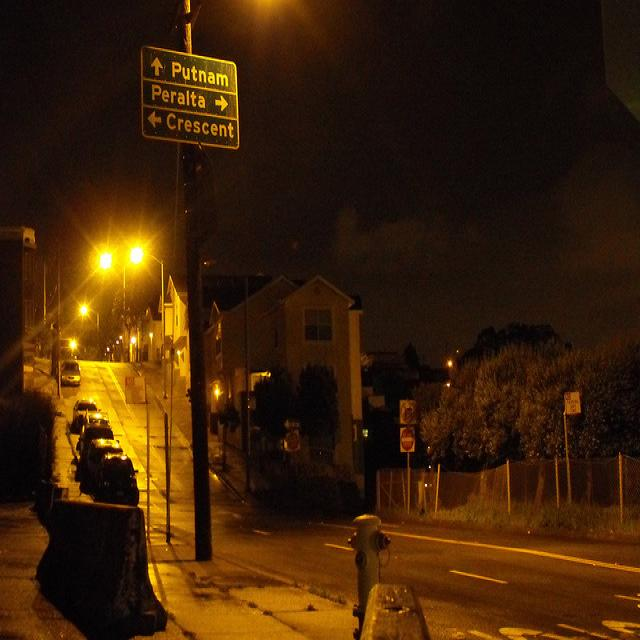Car: (93, 451, 140, 506), (77, 416, 112, 461)
